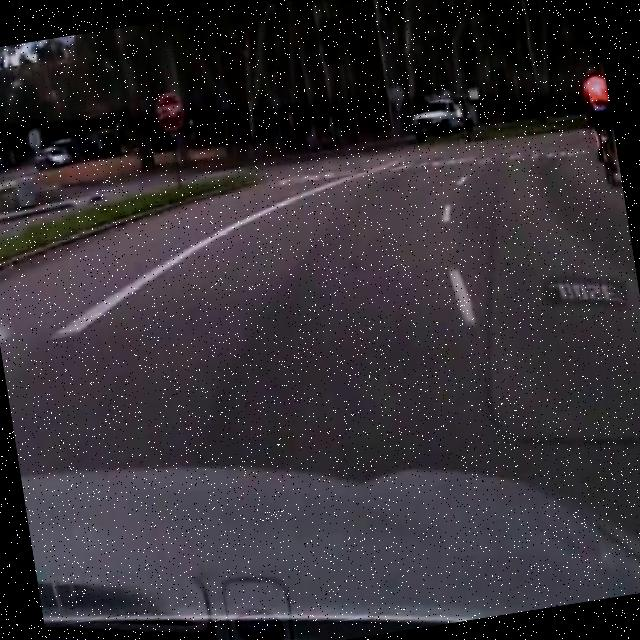Stop: (152, 90, 192, 136)
